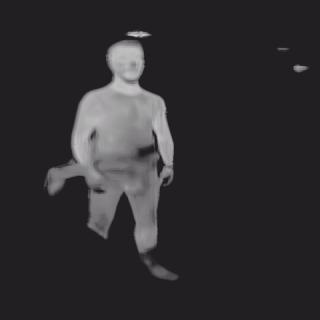Gun: (136, 143, 156, 158)
